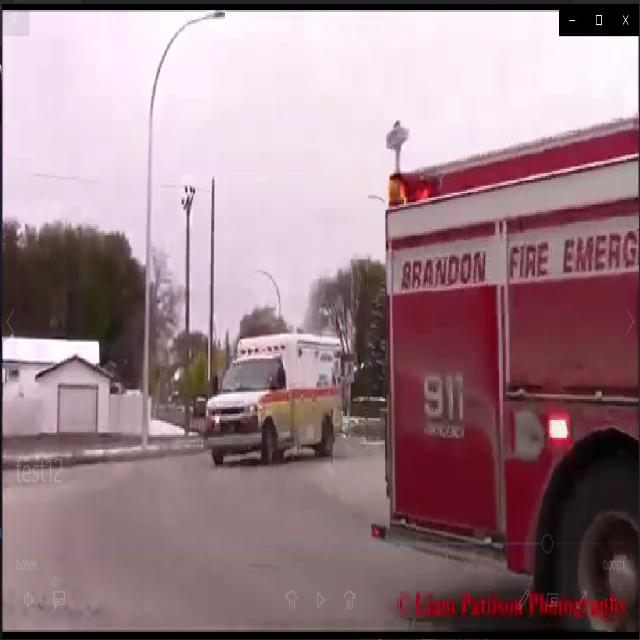emergency: (373, 104, 640, 638), (202, 331, 345, 472)
